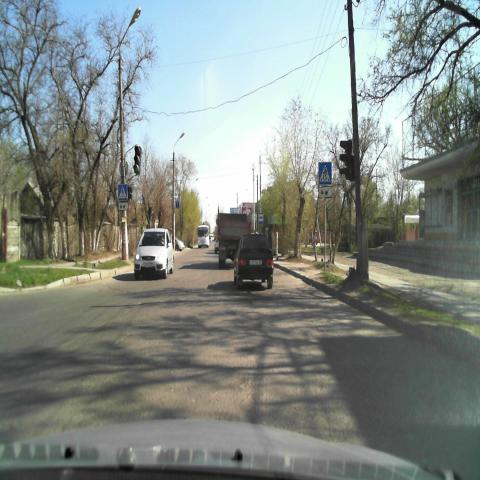8_15: (318, 187, 332, 197)
